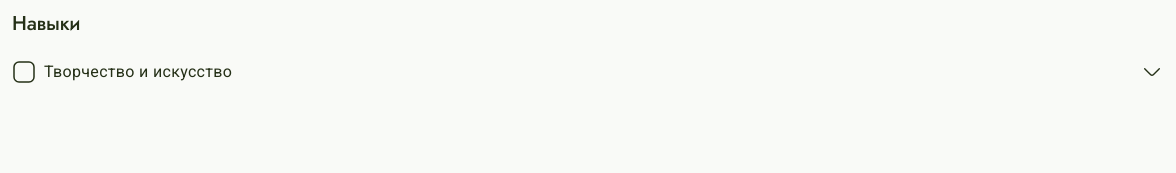
Scenario: SkillsFilter › переходит из частичного выбора в полный и снимает всю категорию
This screenshot has width=1176, height=173.
Click the button named "Развернуть категорию" at (1152, 72), box left=1140, top=60, right=1164, bottom=84
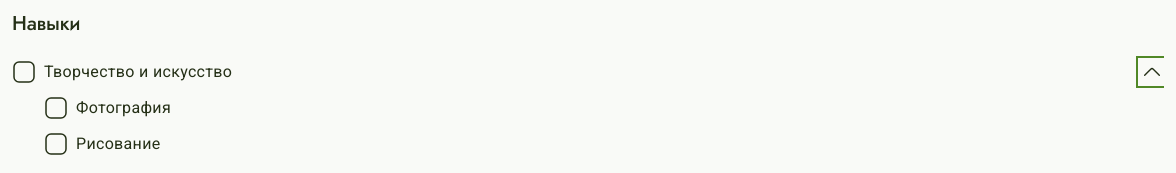
Click the checkbox labelled "Фотография" at (108, 108), box left=44, top=96, right=171, bottom=120
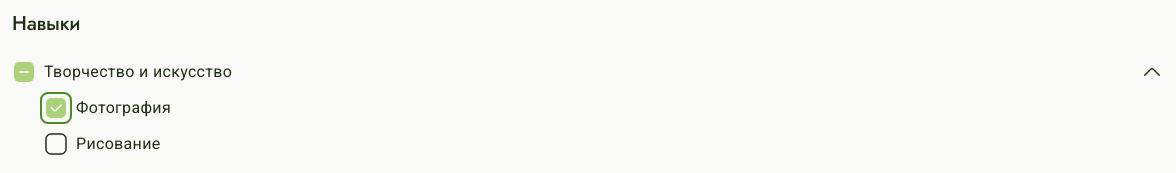
Click the checkbox labelled "Творчество и искусство" at (122, 72), box left=12, top=60, right=232, bottom=84
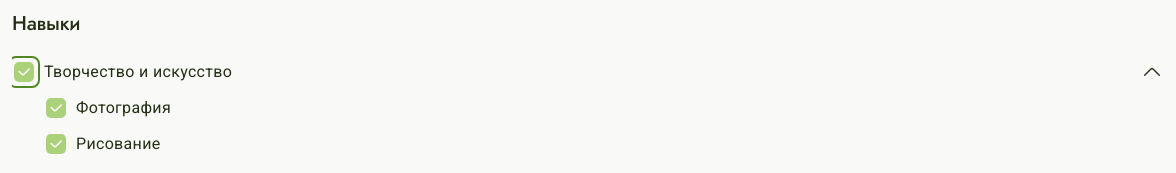
Result: the checkbox labelled "Творчество и искусство" is checked
Result: the checkbox labelled "Рисование" is checked at left=44, top=132, right=160, bottom=156
Click the checkbox labelled "Творчество и искусство" at (122, 72), box left=12, top=60, right=232, bottom=84
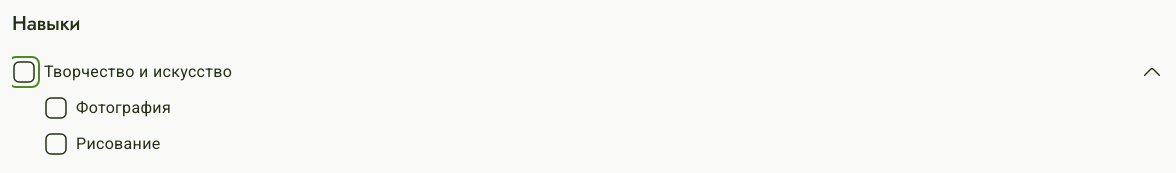
Result: the checkbox labelled "Творчество и искусство" is not checked at left=12, top=60, right=232, bottom=84
Result: the checkbox labelled "Фотография" is not checked at left=44, top=96, right=171, bottom=120
Result: the checkbox labelled "Рисование" is not checked at left=44, top=132, right=160, bottom=156
